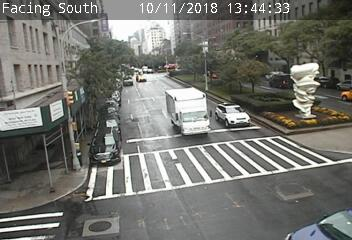car: (168, 89, 209, 137), (87, 128, 119, 162), (215, 102, 249, 127)
